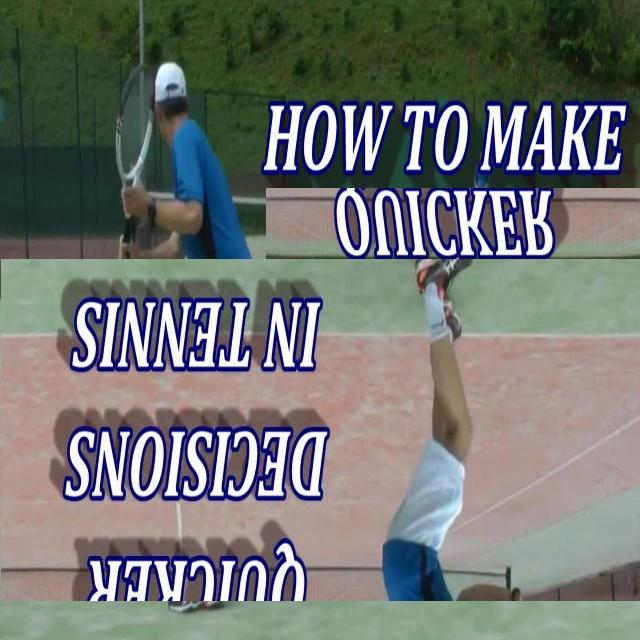court: (1, 259, 640, 601)
net: (266, 188, 640, 302)
player: (98, 48, 262, 627)
